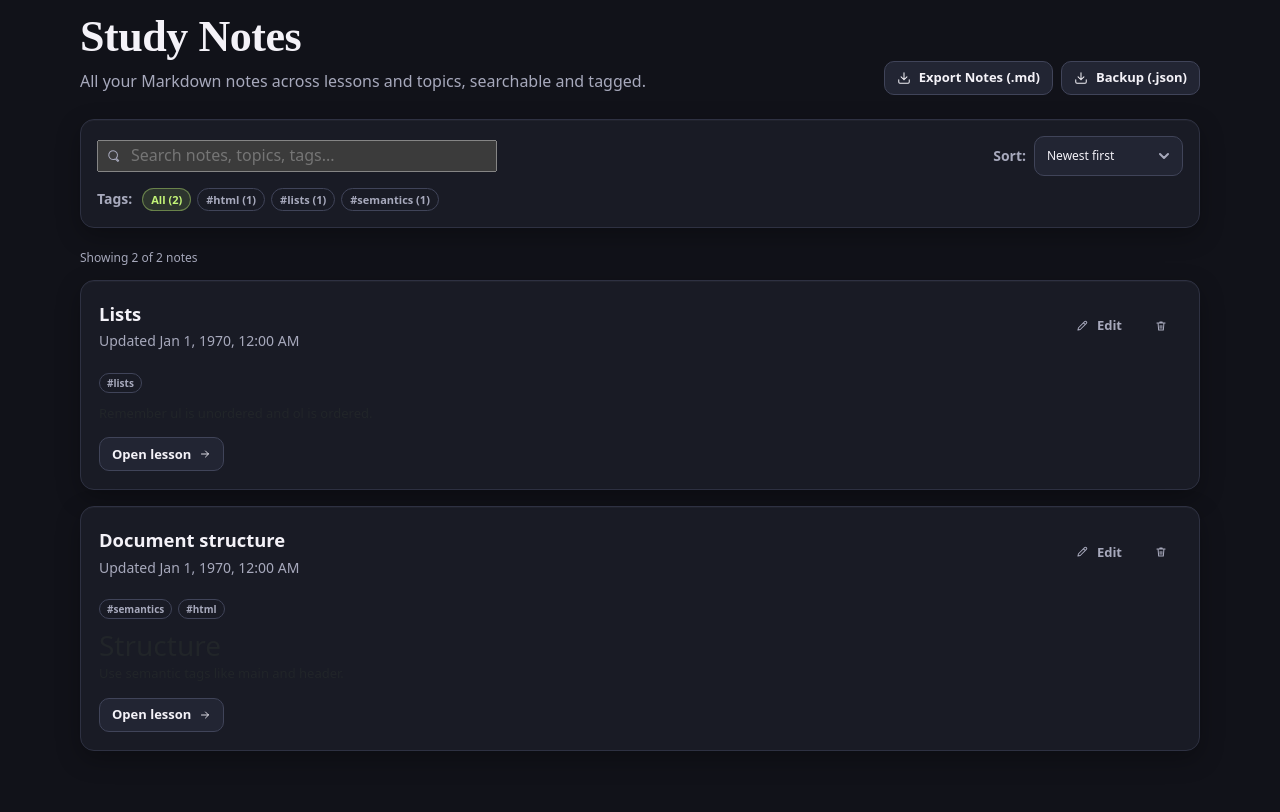
NotesPage Component › renders notes list with tags and allows filtering and search
Expected: the link "Document structure" is shown, [99, 527, 285, 552]
Expected: the link "Lists" is shown, [99, 301, 141, 326]
Filter by tag #lists
Click the button "#lists (1)": (303, 200) [271, 188, 335, 212]
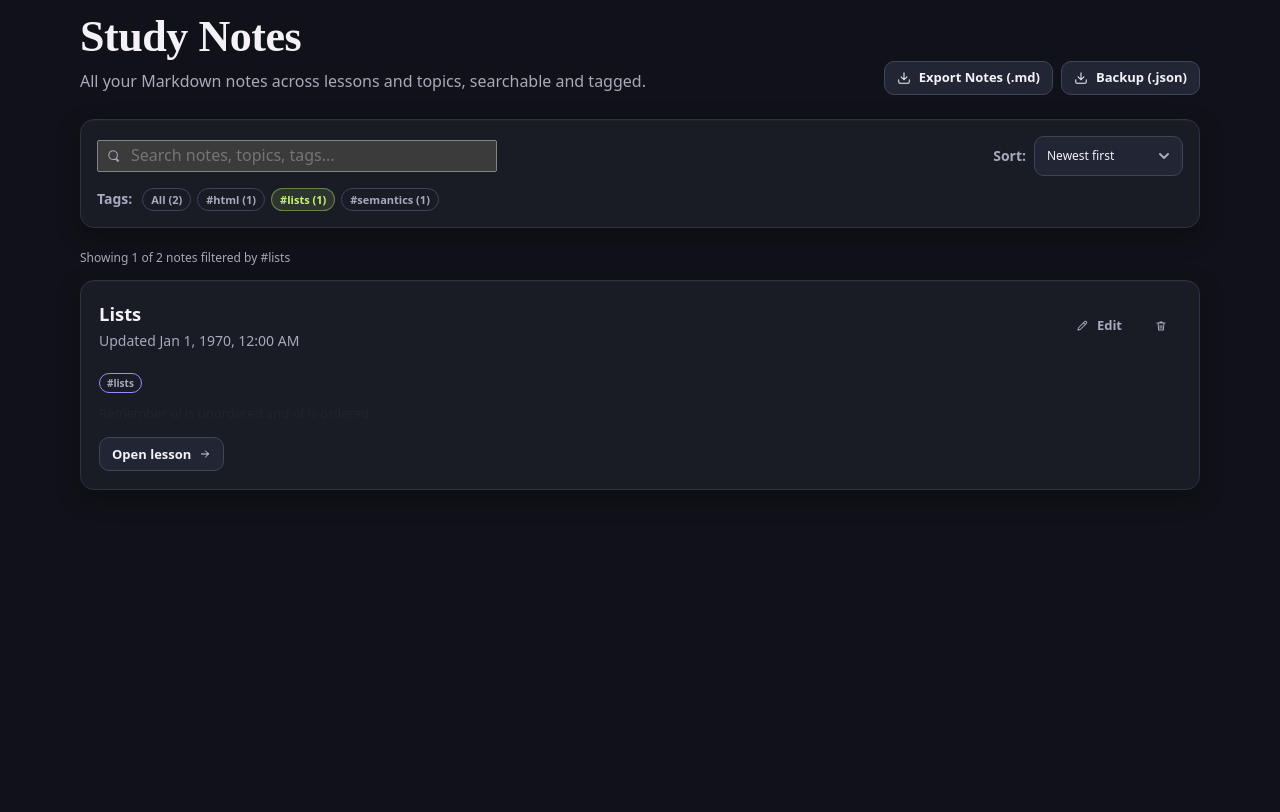
Expected: the link "Lists" is shown, [99, 301, 141, 326]
Expected: the link "Document structure" is gone
Clear tag filter by clicking All
Click the button "All (2)": (167, 200) [142, 188, 191, 212]
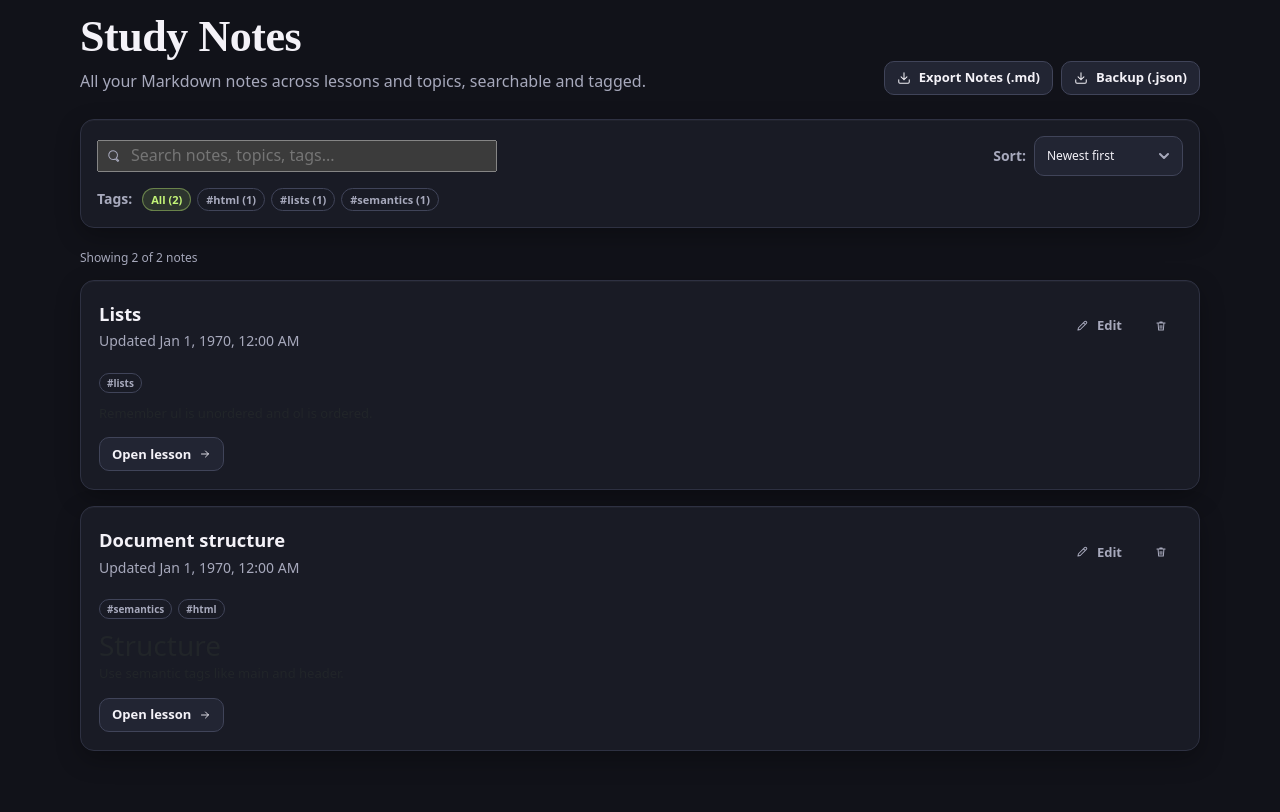
Expected: the link "Document structure" is shown, [99, 527, 285, 552]
Search query
In the search field with placeholder "Search notes, topics, tags...": (297, 156) [97, 140, 497, 172], type "ordered"
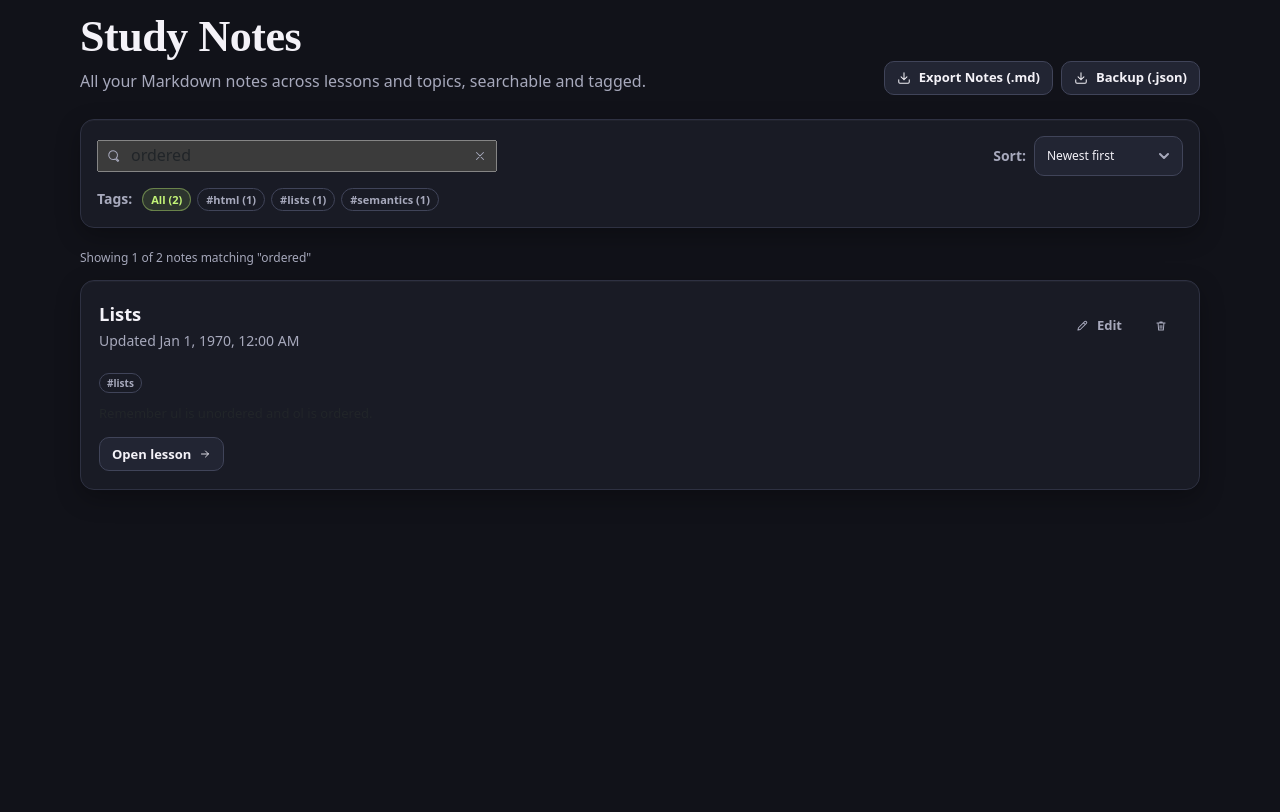
Expected: the link "Lists" is shown, [99, 301, 141, 326]
Expected: the link "Document structure" is gone
